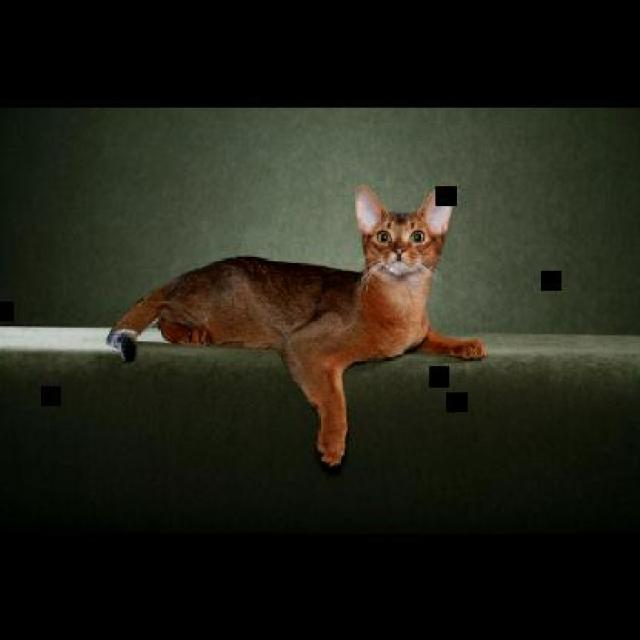unauthorized: (105, 183, 488, 469)
